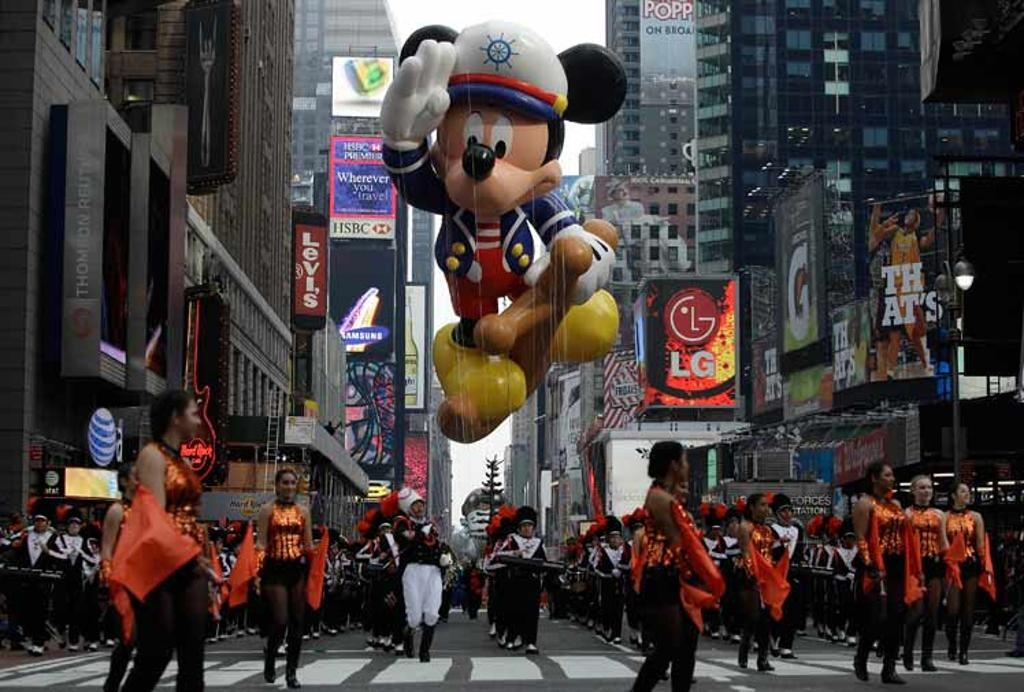human_face: (178, 399, 202, 439), (280, 473, 296, 499), (876, 466, 894, 488), (916, 478, 932, 498), (679, 449, 689, 481), (956, 484, 970, 504), (755, 496, 769, 516), (411, 500, 423, 514), (520, 522, 532, 536), (780, 504, 792, 518), (34, 518, 46, 530), (843, 530, 853, 544), (904, 211, 914, 224), (611, 534, 621, 546), (380, 524, 390, 536), (232, 542, 244, 552), (68, 522, 78, 532), (729, 516, 739, 526), (633, 522, 643, 532), (590, 536, 598, 546), (711, 526, 719, 534), (332, 544, 338, 552)
